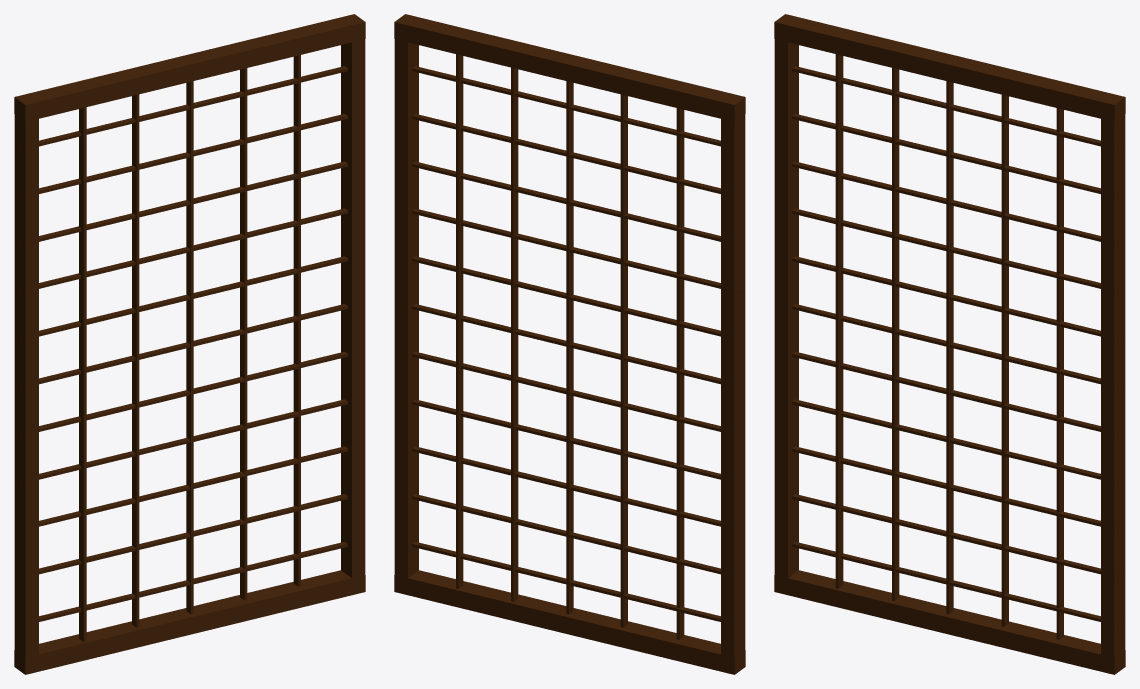
File: door-in.obj
3 renders of one model, left to right at view 1: azimuth 30°, elevation 25°; view 2: azimuth 150°, elevation 25°; view 3: azimuth 330°, elevation 25°, orthographic.
Visible parts, largest first — view 1: Cube.020; view 2: Cube.020; view 3: Cube.020.
Boxes of the visible parts, left/top/right/bottom form: Cube.020: left=14, top=14, right=365, bottom=674; Cube.020: left=394, top=14, right=745, bottom=674; Cube.020: left=774, top=14, right=1125, bottom=674.
Bounding box in the file's own units: 5 × 8.03 × 0.28.
